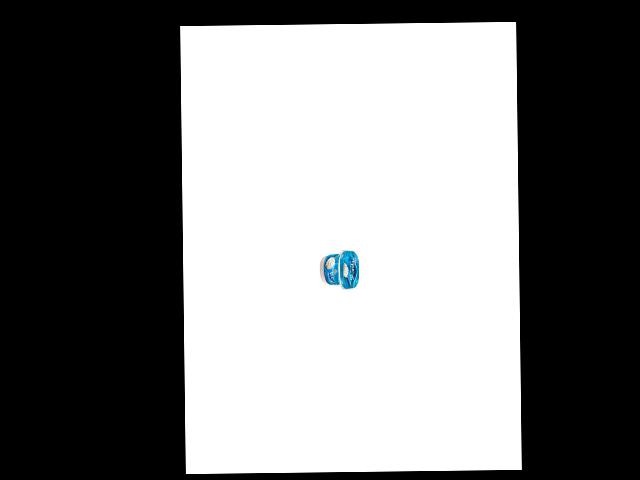cotage: (320, 247, 360, 291)
